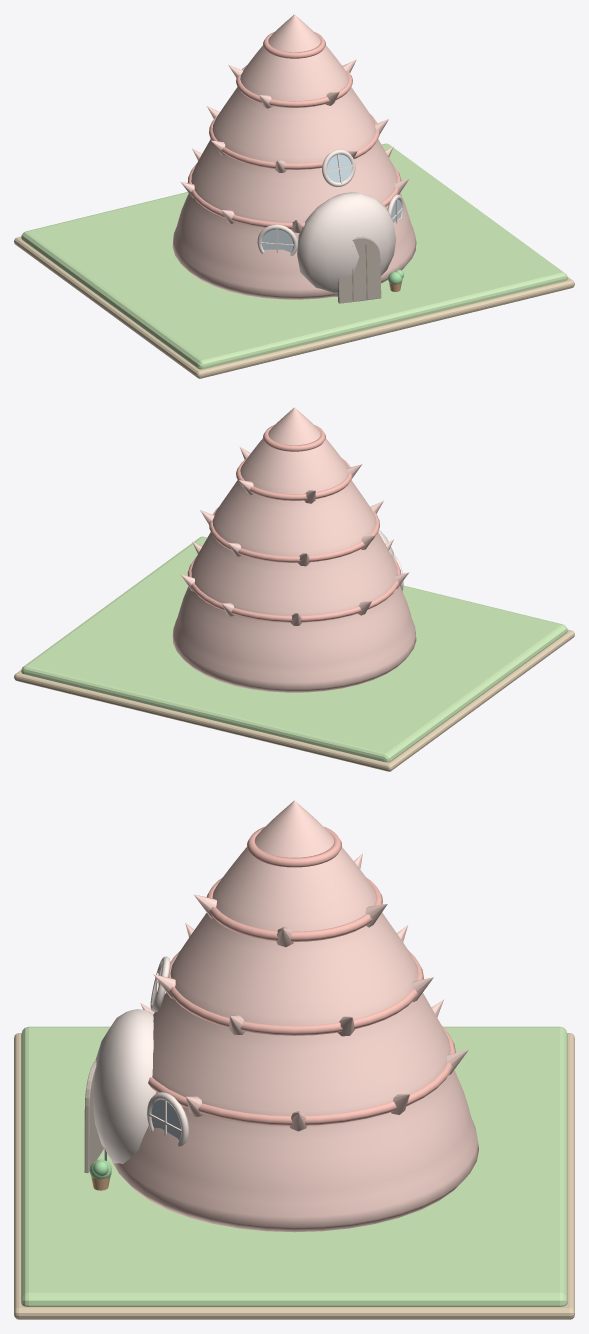
Rendered from building_ocean_L05.glb.
3 renders of one model, top to bottom at view 1: azimuth 30°, elevation 25°; view 2: azimuth 150°, elevation 25°; view 3: azimuth 270°, elevation 25°, orthographic. The views are drawn at different scales.
Parts seen in each view (by area): view 1: ocean_L5; view 2: ocean_L5; view 3: ocean_L5.
Boxes of the visible parts, <box> form: ocean_L5: <box>14,14,574,378</box>; ocean_L5: <box>14,407,574,771</box>; ocean_L5: <box>14,800,574,1319</box>.
Size of the model in its own units: 26.61 by 16.97 by 22.6.
